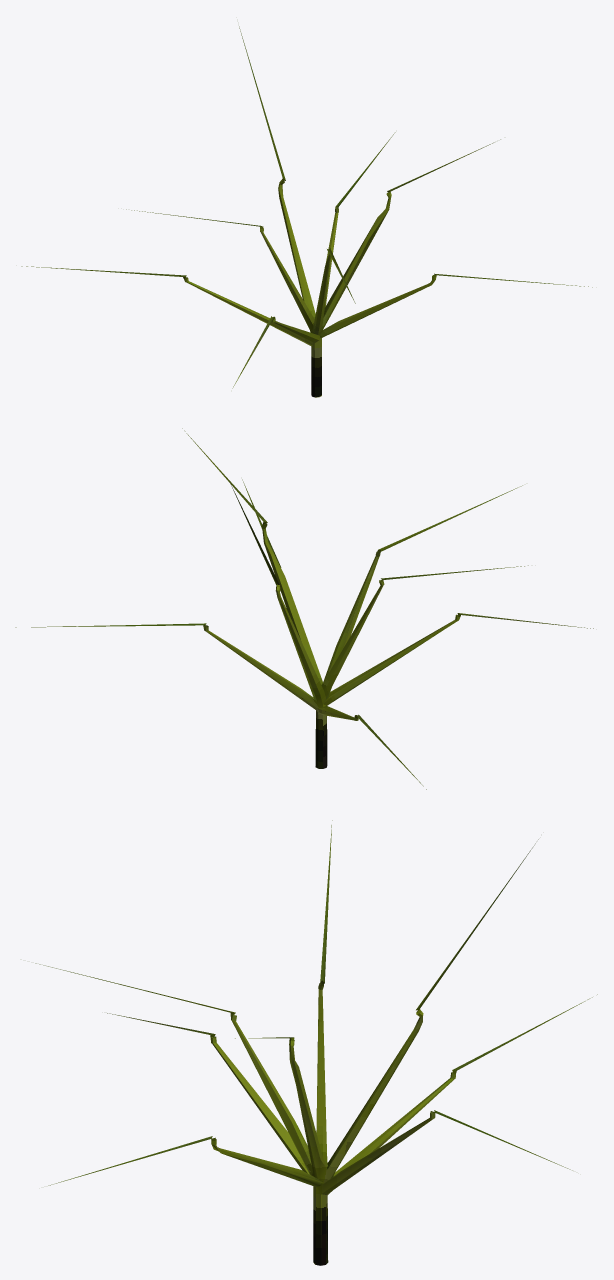
File: alocasia.lod2.glb
3 renders of one model, top to bottom at view 1: azimuth 30°, elevation 25°; view 2: azimuth 150°, elevation 25°; view 3: azimuth 270°, elevation 25°, orthographic. The views are drawn at different scales.
Visible parts, largest first — view 1: alocasia_macrorrhizos_lambert1_0; view 2: alocasia_macrorrhizos_lambert1_0; view 3: alocasia_macrorrhizos_lambert1_0.
Part boxes in pixels (<box>): alocasia_macrorrhizos_lambert1_0: <box>21,26,592,397</box>; alocasia_macrorrhizos_lambert1_0: <box>15,428,593,789</box>; alocasia_macrorrhizos_lambert1_0: <box>35,820,597,1265</box>.
Size of the model in its own units: 2.72 by 2.2 by 2.71.
1 material, 1 textured.
